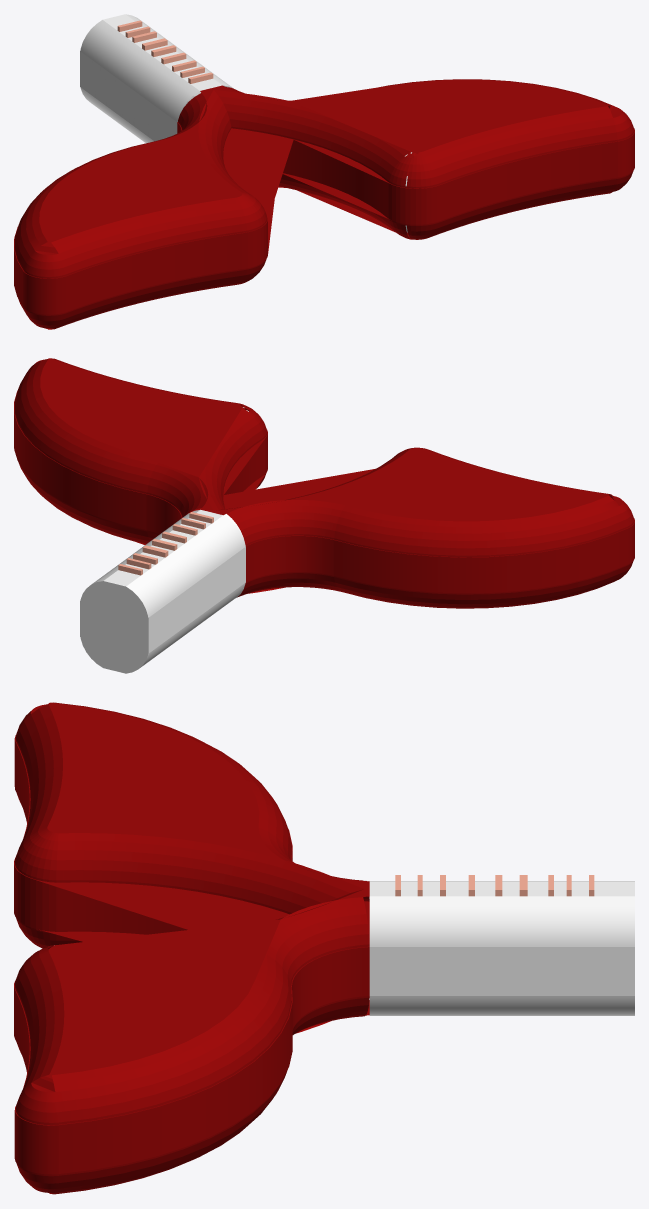
Rendered from paru-paru kura-kura.fbx.
3 views of the same model, one above another, from view 1: azimuth 30°, elevation 25°; view 2: azimuth 150°, elevation 25°; view 3: azimuth 270°, elevation 25° (orthographic). The views are drawn at different scales.
Parts seen in each view (by area): view 1: Group1, Group2, Model; view 2: Group1, Group2, Model; view 3: Group1, Group2, Model.
Boxes of the visible parts, <box> form: Group1: <box>14,14,634,314</box>; Group2: <box>14,51,634,329</box>; Model: <box>117,20,213,83</box>; Group1: <box>14,358,634,653</box>; Group2: <box>14,391,634,673</box>; Model: <box>118,512,213,575</box>; Group1: <box>14,702,634,1174</box>; Group2: <box>14,735,634,1194</box>; Model: <box>395,875,594,896</box>.
Size of the model in its own units: 49.3 by 7.14 by 32.11.
